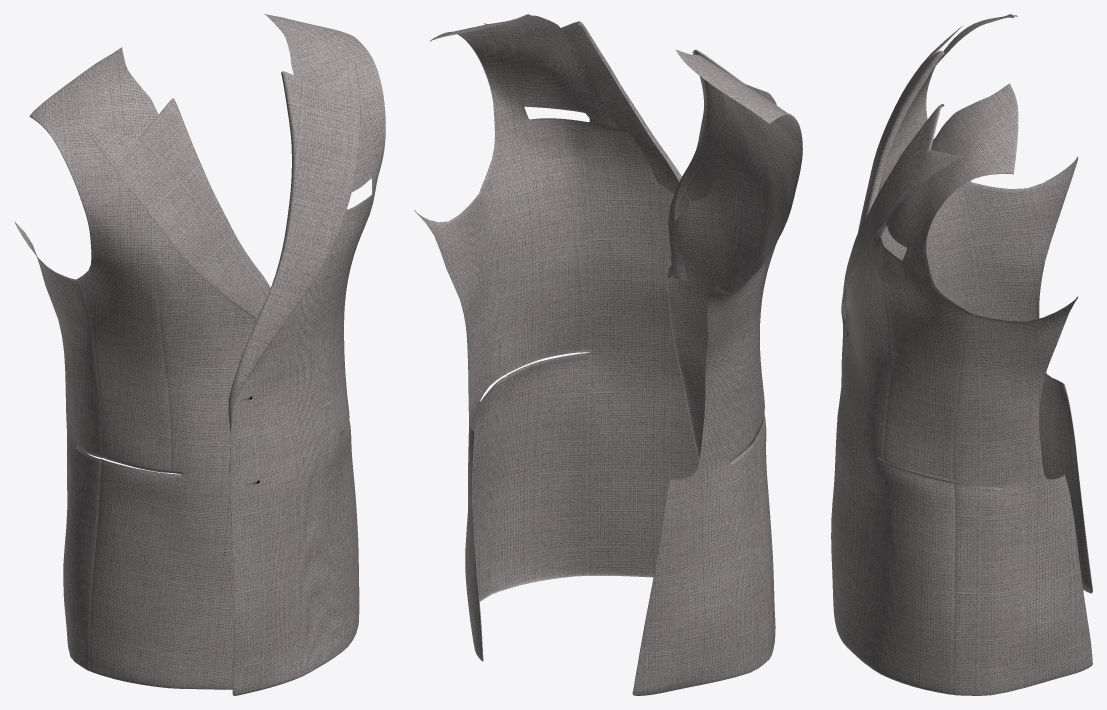
File: peak_double_breasted_wide.glb
3 views of the same model, side by side, from view 1: azimuth 30°, elevation 25°; view 2: azimuth 150°, elevation 25°; view 3: azimuth 270°, elevation 25° (orthographic). The views are drawn at different scales.
Visible parts, largest first — view 1: peak_double_breasted_wide; view 2: peak_double_breasted_wide; view 3: peak_double_breasted_wide.
Boxes of the visible parts, box(x1,y1,x2,y2) form: peak_double_breasted_wide: box(14, 14, 385, 695); peak_double_breasted_wide: box(414, 14, 802, 695); peak_double_breasted_wide: box(831, 14, 1092, 695).
Bounding box in the file's own units: 0.0585 × 0.1017 × 0.0414.
Materials: 2 (2 with a texture image).
